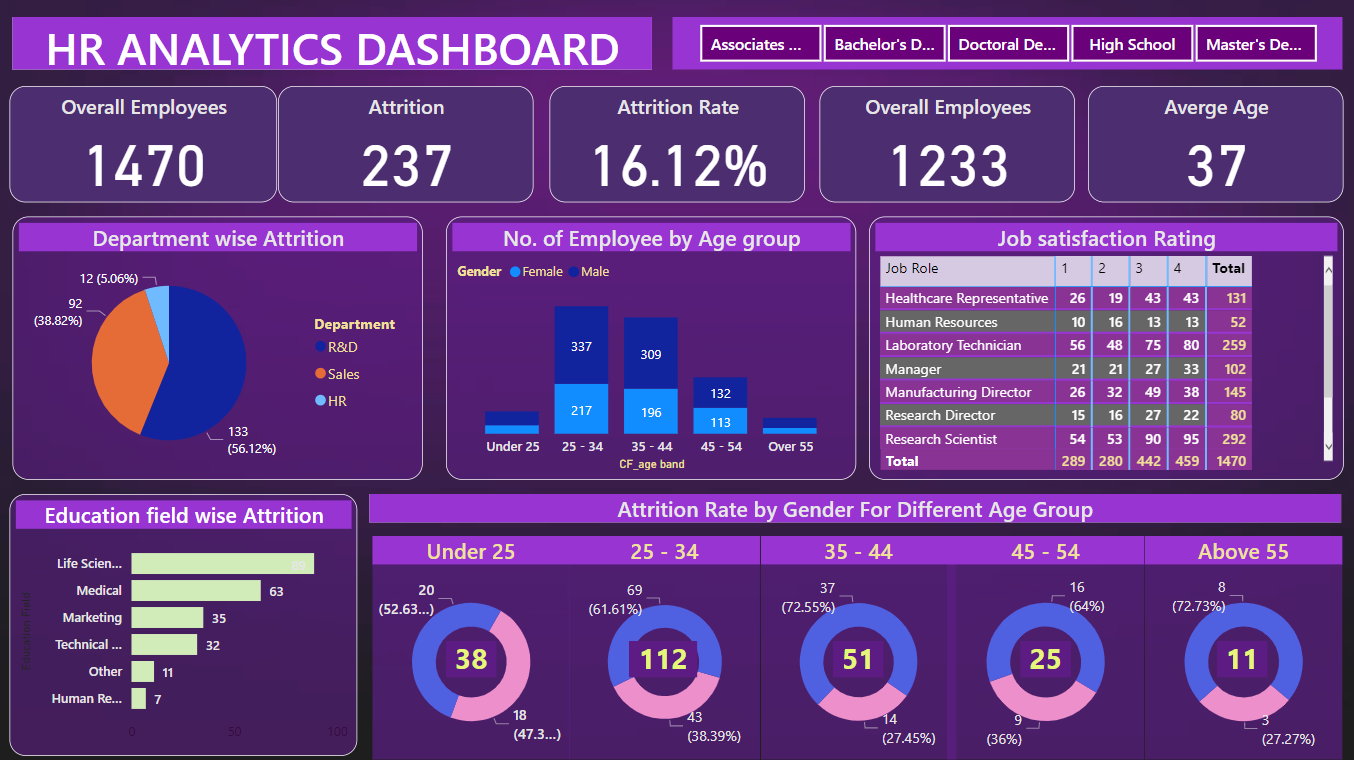

Layout of this report page (visuals, bound fields, positions):
{"tool":"powerbi","page":{"name":"Page 1","canvas":[1280,720],"ordinal":0},"visuals":[{"type":"card","title":"Overall Employees","fields":{"Values":["Sum(HR data.Employee Count)"]},"box":[13.2,86.9,251.3,109.6],"z":0},{"type":"card","title":"Attrition","fields":{"Values":["Sum(HR data.Attrition Column Count)"]},"box":[264.6,86.9,240,109.6],"z":1000},{"type":"card","title":"Attrition Rate","fields":{"Values":["HR data.Attrition Rate"]},"box":[519.7,86.9,240,109.6],"z":2000},{"type":"card","title":"Overall Employees","fields":{"Values":["HR data.Active Employee"]},"box":[772.9,86.9,240,109.6],"z":3000},{"type":"card","title":"Averge Age","fields":{"Values":["Avg(HR data.Age)"]},"box":[1026.1,86.9,240,109.6],"z":4000},{"type":"pieChart","title":"Department wise Attrition","fields":{"Y":["Sum(HR data.Attrition Column Count)"],"Category":["HR data.Department"]},"box":[15.1,209.8,385.5,247.6],"z":5000},{"type":"columnChart","title":"No. of  Employee by Age group","fields":{"Category":["HR data.CF_age band"],"Y":["Sum(HR data.Employee Count)"],"Series":["HR data.Gender"]},"box":[423.3,209.8,385.5,247.6],"z":6000},{"type":"pivotTable","title":"Job satisfaction Rating","fields":{"Rows":["HR data.Job Role"],"Columns":["HR data.Job Satisfaction"],"Values":["Sum(HR data.Employee Count)"]},"box":[820.2,209.8,446,247.6],"z":7000},{"type":"barChart","title":"Education field wise Attrition","fields":{"Y":["Sum(HR data.Attrition Column Count)"],"Category":["HR data.Education Field"]},"box":[13.2,470.6,326.9,245.7],"z":8000},{"type":"donutChart","title":"Under 25","fields":{"Category":["HR data.Gender"],"Y":["Sum(HR data.Attrition Column Count)"],"Series":["HR data.CF_age band"]},"box":[353.4,510.2,185.2,209.8],"z":9000},{"type":"textbox","title":"Attrition Rate by Gender For Different Age Group","box":[351.5,470.6,912.8,26.5],"z":10000},{"type":"donutChart","title":"25 - 34","fields":{"Category":["HR data.Gender"],"Y":["Sum(HR data.Attrition Column Count)"],"Series":["HR data.CF_age band"]},"box":[538.6,510.2,179.5,209.8],"z":11000},{"type":"donutChart","title":"35 - 44","fields":{"Category":["HR data.Gender"],"Y":["Sum(HR data.Attrition Column Count)"],"Series":["HR data.CF_age band"]},"box":[718.1,510.2,183.3,209.8],"z":12000},{"type":"donutChart","title":"45 - 54","fields":{"Category":["HR data.Gender"],"Y":["Sum(HR data.Attrition Column Count)"],"Series":["HR data.CF_age band"]},"box":[893.9,510.2,185.2,209.8],"z":13000},{"type":"donutChart","title":"Above 55","fields":{"Category":["HR data.Gender"],"Y":["Sum(HR data.Attrition Column Count)"],"Series":["HR data.CF_age band"]},"box":[1079.1,510.2,185.2,209.8],"z":14000},{"type":"card","fields":{"Values":["Sum(HR data.Attrition Column Count)"]},"box":[423.3,608.5,47.2,34],"z":15000},{"type":"card","fields":{"Values":["Sum(HR data.Attrition Column Count)"]},"box":[595.3,608.5,64.3,34],"z":16000},{"type":"card","fields":{"Values":["Sum(HR data.Attrition Column Count)"]},"box":[786.1,608.5,47.2,34],"z":17000},{"type":"card","fields":{"Values":["Sum(HR data.Attrition Column Count)"]},"box":[961.9,608.5,47.2,34],"z":18000},{"type":"card","fields":{"Values":["Sum(HR data.Attrition Column Count)"]},"box":[1147.1,608.5,47.2,34],"z":19000},{"type":"textbox","title":"HR ANALYTICS DASHBOARD","box":[15.1,22.7,600.9,49.1],"z":20000},{"type":"slicer","fields":{"Values":["HR data.Education"]},"box":[635,22.7,629.3,49.1],"z":21000}]}

Visuals, with their boxes in screenshot pixels (x1, y1, x2, y2), scaled from the page's 1280x720 canvas onto the 1354x760 screenshot:
"Overall Employees" card: x1=14, y1=92, x2=280, y2=207
"Attrition" card: x1=280, y1=92, x2=534, y2=207
"Attrition Rate" card: x1=550, y1=92, x2=804, y2=207
"Overall Employees" card: x1=818, y1=92, x2=1071, y2=207
"Averge Age" card: x1=1085, y1=92, x2=1339, y2=207
"Department wise Attrition" pieChart: x1=16, y1=221, x2=424, y2=483
"No. of  Employee by Age group" columnChart: x1=448, y1=221, x2=856, y2=483
"Job satisfaction Rating" pivotTable: x1=868, y1=221, x2=1339, y2=483
"Education field wise Attrition" barChart: x1=14, y1=497, x2=360, y2=756
"Under 25" donutChart: x1=374, y1=539, x2=570, y2=759
"Attrition Rate by Gender For Different Age Group" textbox: x1=372, y1=497, x2=1337, y2=525
"25 - 34" donutChart: x1=570, y1=539, x2=760, y2=759
"35 - 44" donutChart: x1=760, y1=539, x2=954, y2=759
"45 - 54" donutChart: x1=946, y1=539, x2=1141, y2=759
"Above 55" donutChart: x1=1141, y1=539, x2=1337, y2=759
card - Sum(HR data.Attrition Column Count): x1=448, y1=642, x2=498, y2=678
card - Sum(HR data.Attrition Column Count): x1=630, y1=642, x2=698, y2=678
card - Sum(HR data.Attrition Column Count): x1=832, y1=642, x2=881, y2=678
card - Sum(HR data.Attrition Column Count): x1=1018, y1=642, x2=1067, y2=678
card - Sum(HR data.Attrition Column Count): x1=1213, y1=642, x2=1263, y2=678
"HR ANALYTICS DASHBOARD" textbox: x1=16, y1=24, x2=652, y2=76
slicer - HR data.Education: x1=672, y1=24, x2=1337, y2=76
